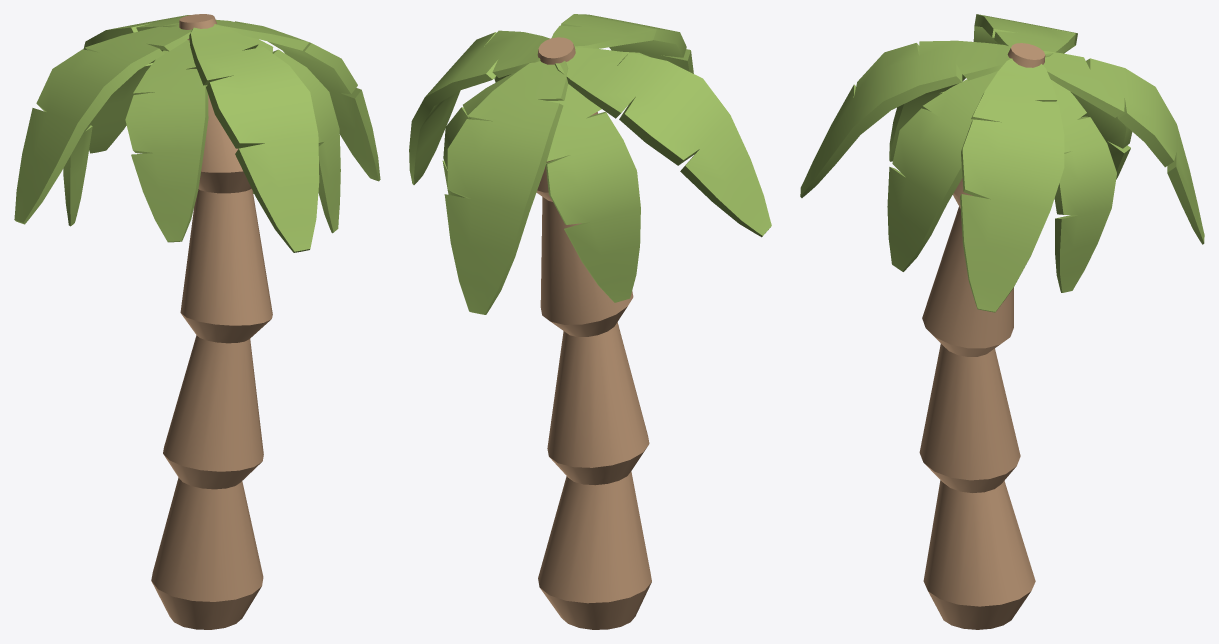
Rendered from palm_tree_001.glb.
3 renders of one model, left to right at view 1: azimuth 30°, elevation 25°; view 2: azimuth 150°, elevation 25°; view 3: azimuth 270°, elevation 25°, orthographic.
Parts seen in each view (by area): view 1: palm_tree.001; view 2: palm_tree.001; view 3: palm_tree.001.
Part boxes in pixels (<box>): palm_tree.001: <box>14,14,380,629</box>; palm_tree.001: <box>409,14,771,629</box>; palm_tree.001: <box>800,14,1204,629</box>.
Bounding box in the file's own units: 1.56 × 2.45 × 1.57.
1 material, 1 textured.
